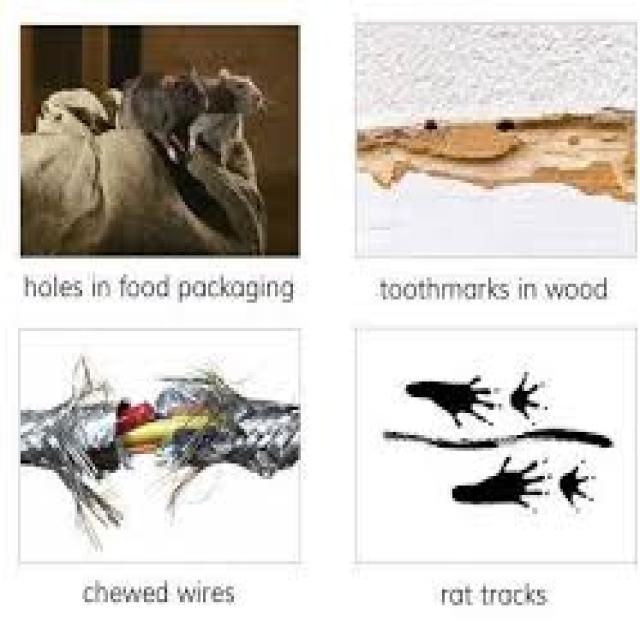rat: (18, 353, 298, 549), (18, 63, 270, 255)
